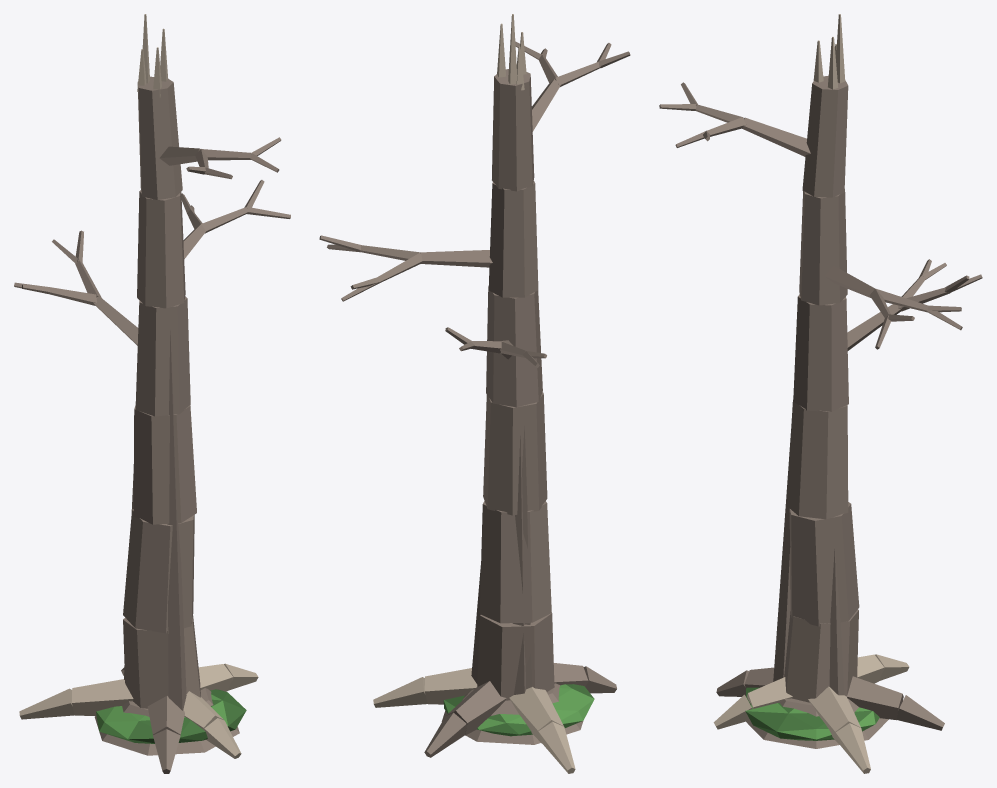
Rendered from tree_snag_a.glb.
The picture shows the model from 3 angles, left to right: view 1: azimuth 30°, elevation 25°; view 2: azimuth 150°, elevation 25°; view 3: azimuth 270°, elevation 25°; orthographic projection.
Parts seen in each view (by area): view 1: TreeSnagA; view 2: TreeSnagA; view 3: TreeSnagA.
Boxes of the visible parts, left/top/right/bottom form: TreeSnagA: left=14, top=14, right=290, bottom=773; TreeSnagA: left=319, top=14, right=630, bottom=773; TreeSnagA: left=659, top=14, right=982, bottom=773.
Size of the model in its own units: 4 by 10.45 by 4.37.
